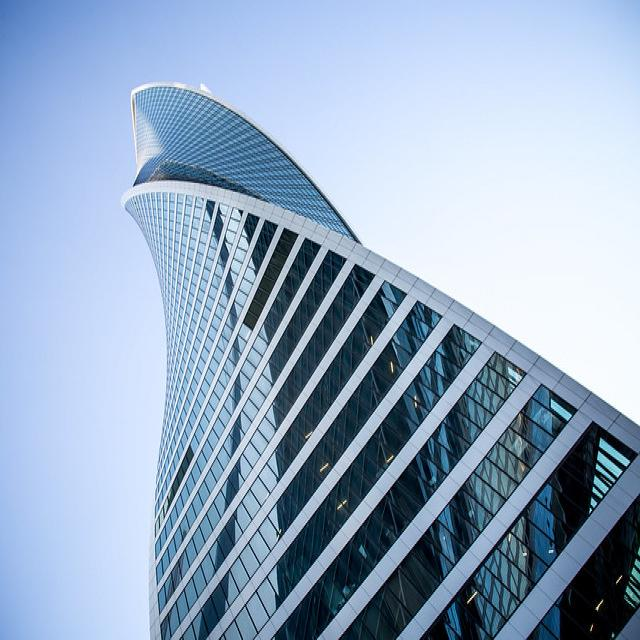Normal_building: (119, 67, 638, 639)
